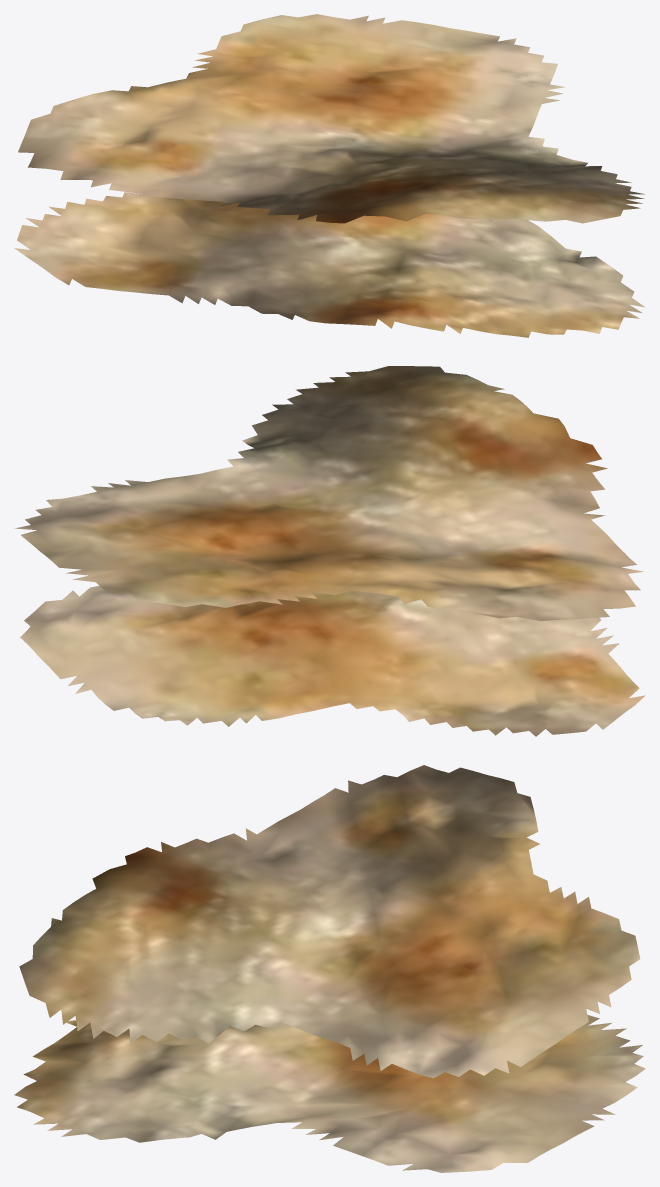
The model's file is chicken-3.glb.
3 renders of one model, top to bottom at view 1: azimuth 30°, elevation 25°; view 2: azimuth 150°, elevation 25°; view 3: azimuth 270°, elevation 25°, orthographic. The views are drawn at different scales.
Parts seen in each view (by area): view 1: fetta di pollo_Default OBJ_0; view 2: fetta di pollo_Default OBJ_0; view 3: fetta di pollo_Default OBJ_0.
Part boxes in pixels (x1,y1,x2,y2): fetta di pollo_Default OBJ_0: (14,14,644,337); fetta di pollo_Default OBJ_0: (14,366,645,736); fetta di pollo_Default OBJ_0: (14,765,645,1172).
Size of the model in its own units: 0.03 by 0.00714 by 0.0285.
1 material, 1 textured.
